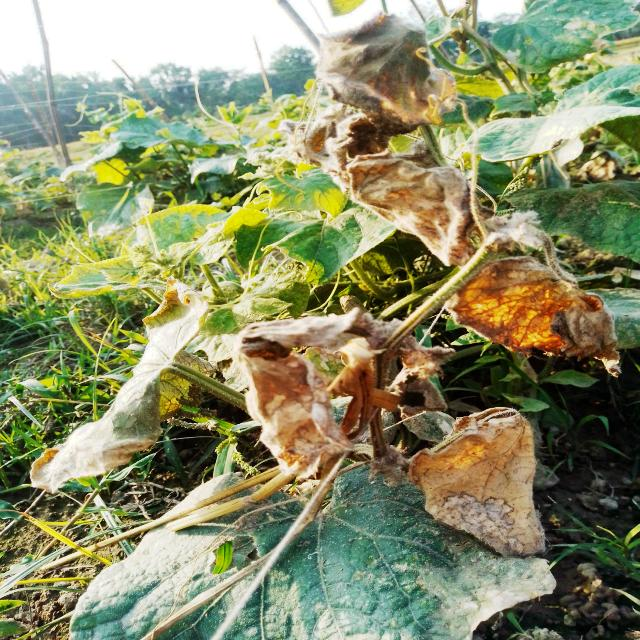Bacterial-Wilt: (30, 272, 219, 497), (279, 100, 475, 268), (446, 256, 622, 381), (407, 404, 547, 559), (316, 12, 459, 141)
